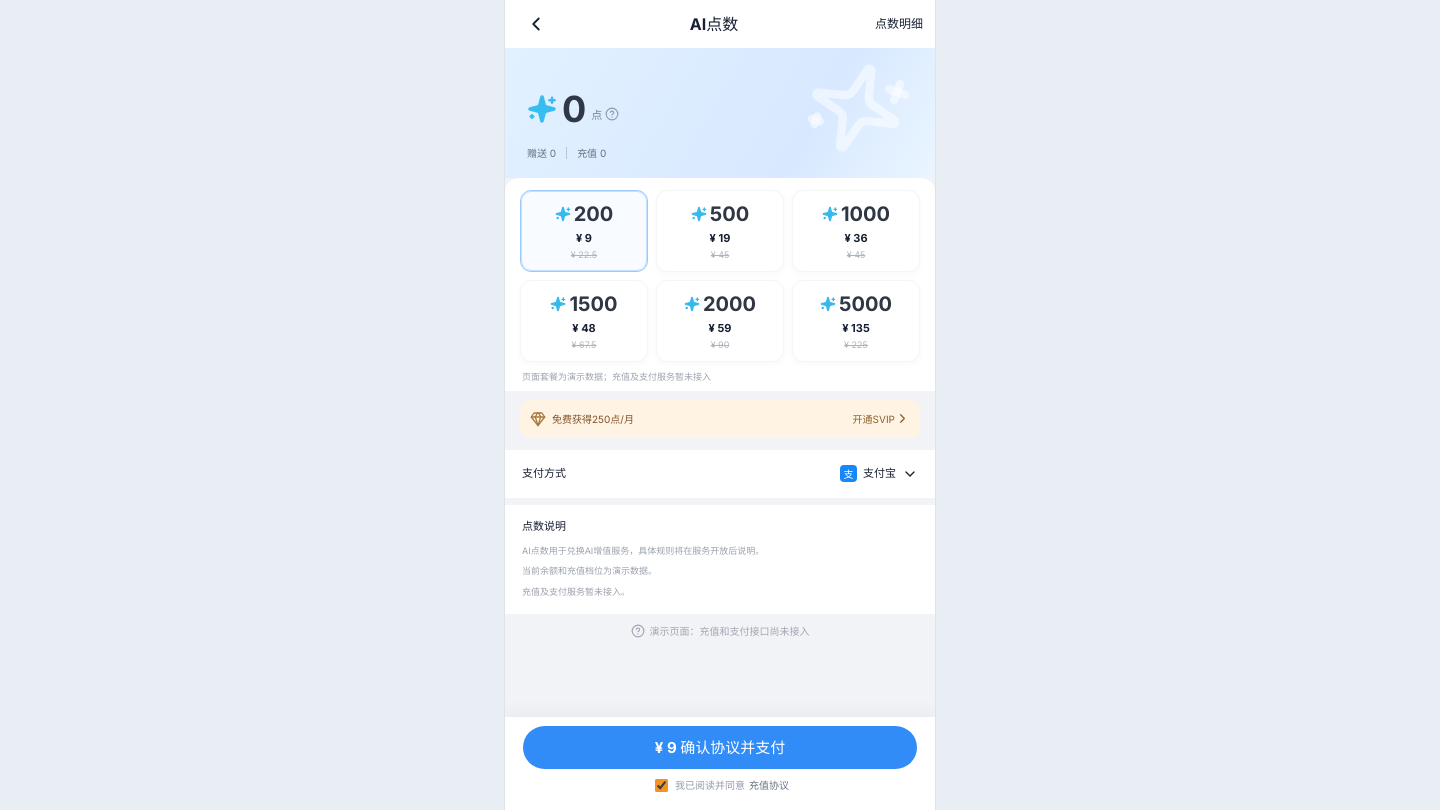
mobile AI points page › updates the selected pack and shows a non-payment demo state
Click the button "500 ¥ 19 ¥ 45". click: (720, 231)
box: [656,190,784,272]
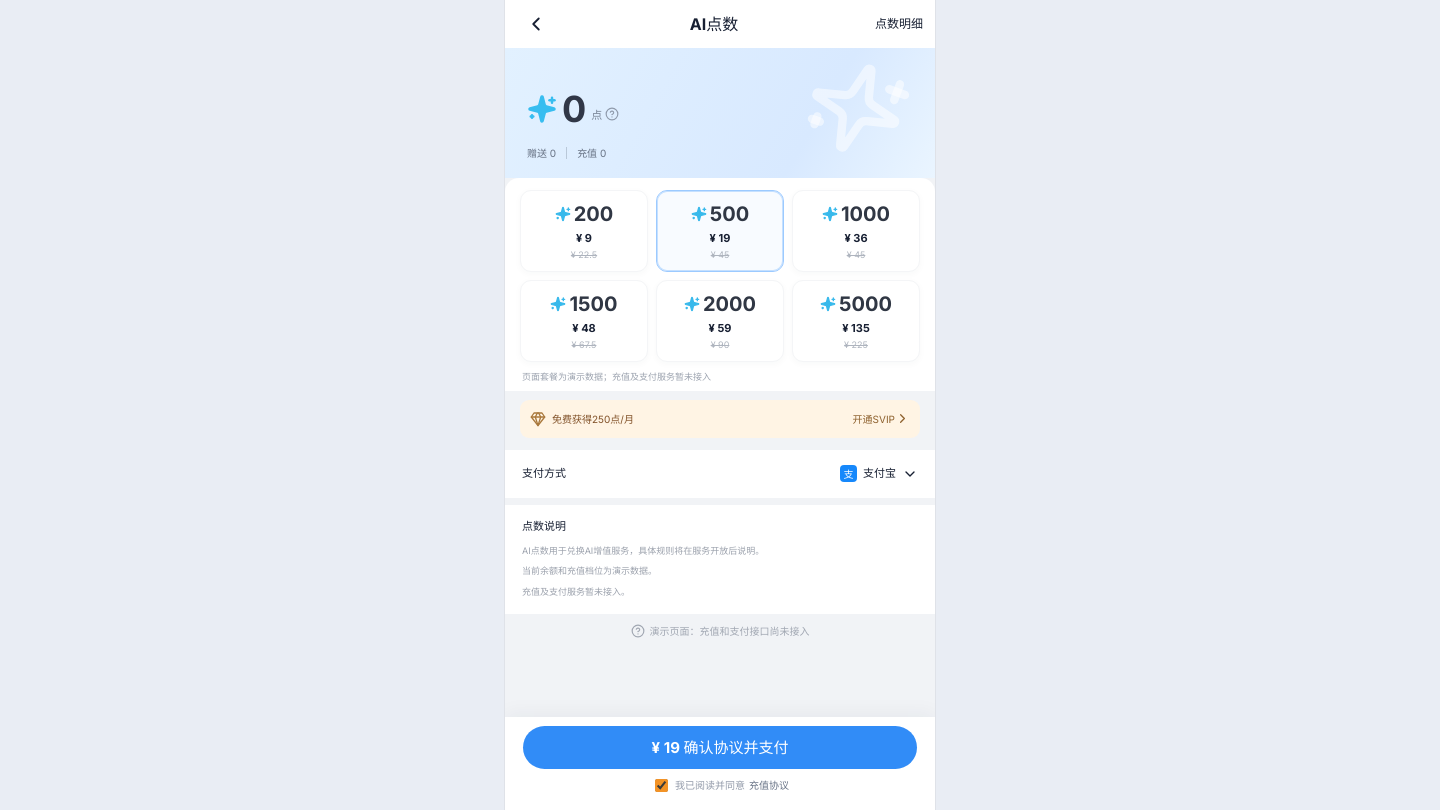
Expected: the button "¥ 19 确认协议并支付" is shown
Click the button "¥ 19 确认协议并支付". click: (720, 748)
box: [523,726,917,769]
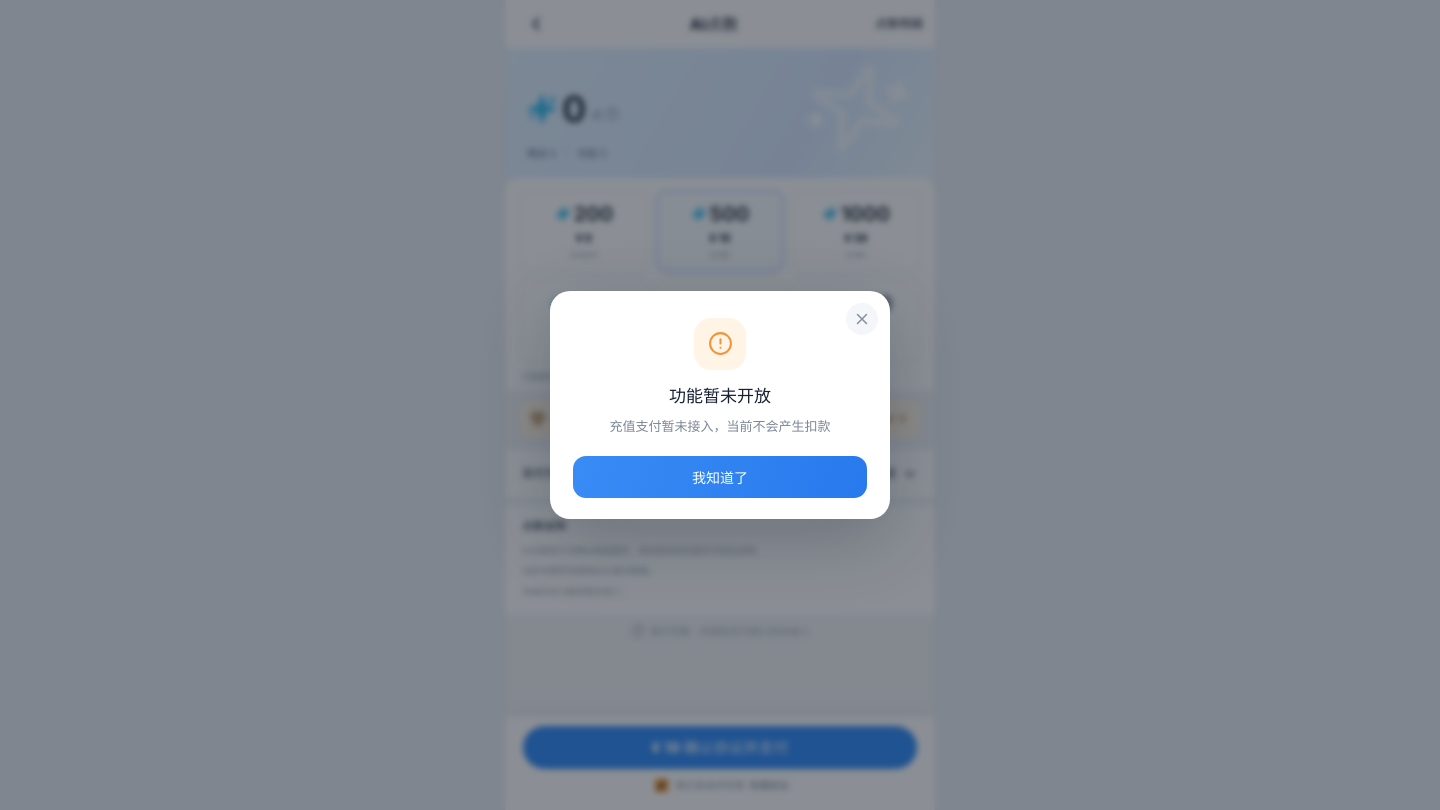
Expected: the dialog with class "unavailable-dialog" shows "充值支付暂未接入", [610,418,830,434]
